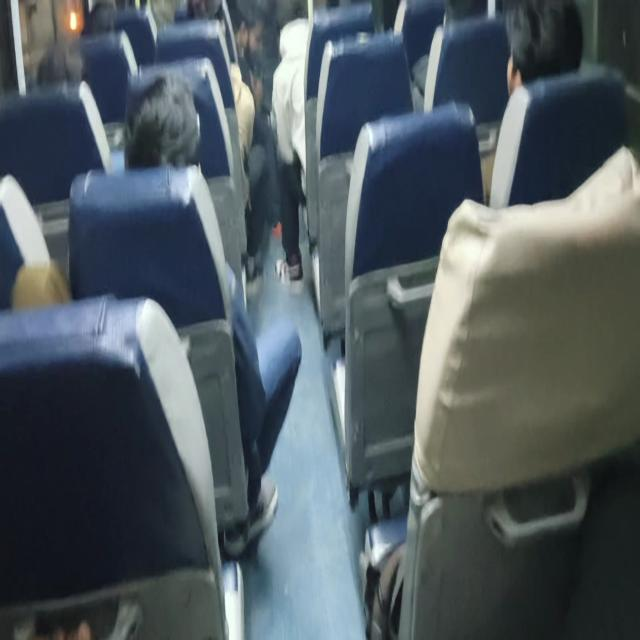person: (501, 0, 584, 81), (140, 93, 206, 181), (41, 62, 94, 102), (83, 2, 123, 44), (232, 6, 262, 58), (443, 0, 486, 21)
